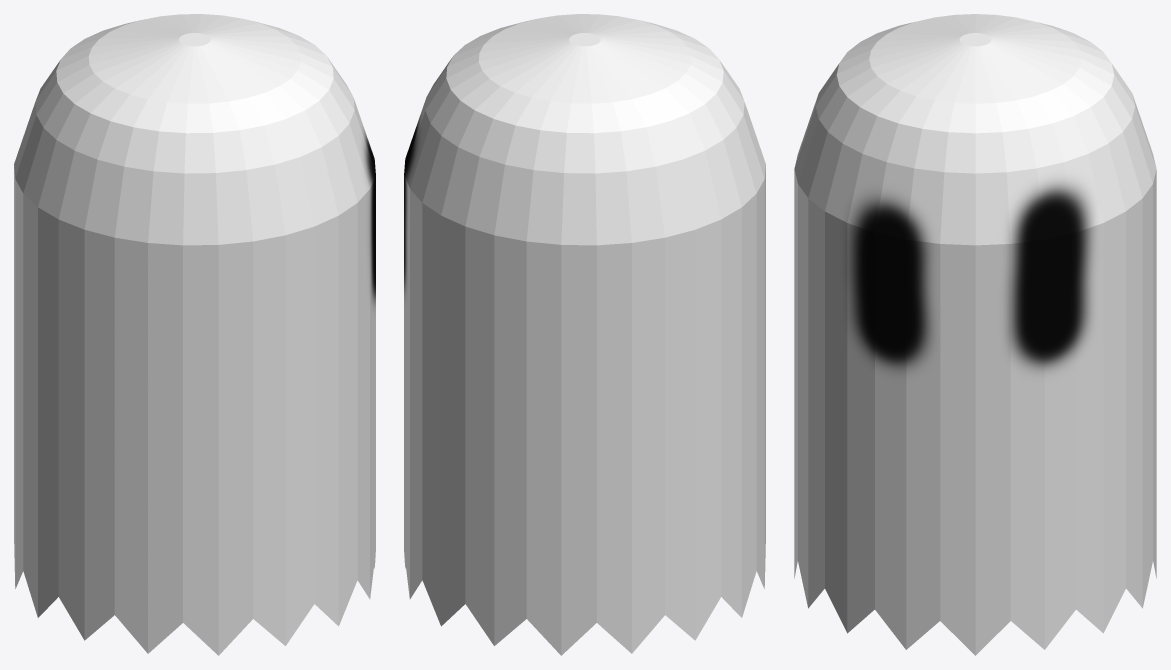
The model's file is ghost.obj.
The picture shows the model from 3 angles, left to right: view 1: azimuth 30°, elevation 25°; view 2: azimuth 150°, elevation 25°; view 3: azimuth 270°, elevation 25°; orthographic projection.
Visible parts, largest first — view 1: Cylinder; view 2: Cylinder; view 3: Cylinder.
Part boxes in pixels (left/top/right/bottom): Cylinder: left=14, top=14, right=375, bottom=655; Cylinder: left=404, top=14, right=765, bottom=655; Cylinder: left=794, top=14, right=1156, bottom=655.
Size of the model in its own units: 2 by 3.29 by 2.
Materials: 1 (1 with a texture image).
